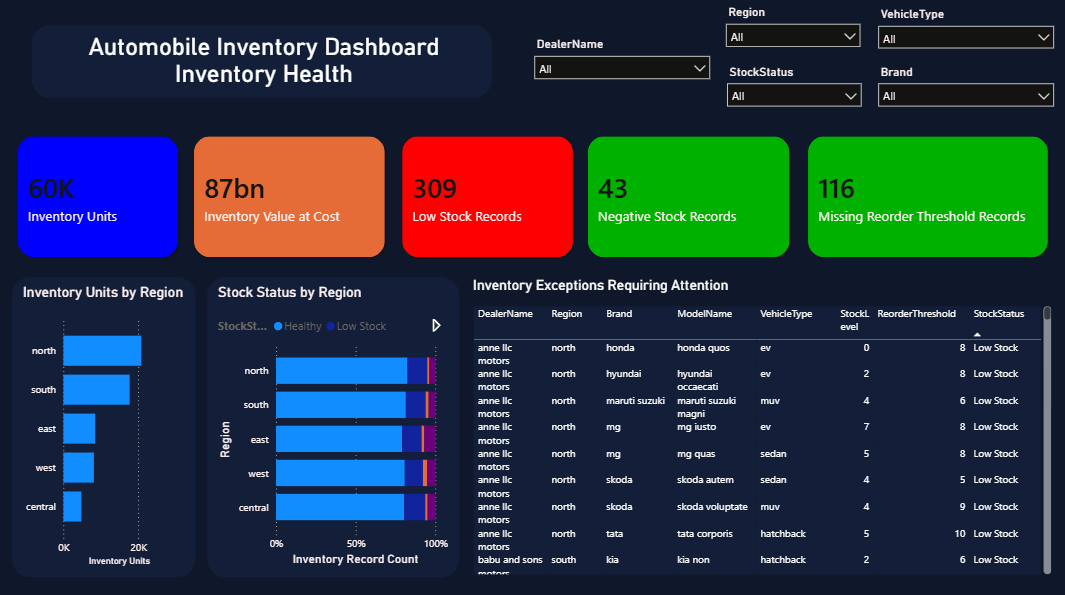

The page's visual inventory and layout, read from the dashboard file:
{"tool":"powerbi","page":{"name":"Inventory Health","canvas":[1280,720],"ordinal":2},"visuals":[{"type":"textbox","title":"Automobile Inventory Dashboard Inventory Health","box":[35,32.5,557.1,91.4],"z":0},{"type":"slicer","fields":{"Values":["fact_Inventory.StockStatus"]},"box":[862.5,77.5,181.4,70],"z":1000},{"type":"slicer","fields":{"Values":["dim_Dealers.Region"]},"box":[861.2,5,181.4,72.9],"z":2000},{"type":"slicer","fields":{"Values":["dim_Vehicles.Brand"]},"box":[1043.8,77.5,231.2,70],"z":3000},{"type":"slicer","fields":{"Values":["dim_Vehicles.VehicleType"]},"box":[1043.8,5,231.2,72.5],"z":4000},{"type":"cardVisual","fields":{"Data":["fact_Inventory.Inventory Value at Cost"]},"box":[211.2,147.5,272.5,188.8],"z":5000},{"type":"cardVisual","fields":{"Data":["fact_Inventory.Missing Reorder Threshold Records"]},"box":[948.7,146.4,331.2,188.8],"z":6000},{"type":"cardVisual","fields":{"Data":["fact_Inventory.Negative Stock Records"]},"box":[683.8,147.5,285,188.8],"z":7000},{"type":"cardVisual","fields":{"Data":["fact_Inventory.Inventory Units"]},"box":[0,147.5,235.7,188.6],"z":9000},{"type":"cardVisual","fields":{"Data":["fact_Inventory.Low Stock Records"]},"box":[461.2,147.5,248.8,188.8],"z":10000},{"type":"clusteredBarChart","fields":{"Category":["dim_Dealers.Region"],"Y":["fact_Inventory.Inventory Units"]},"box":[12.5,336.2,223.8,363.8],"z":12000},{"type":"hundredPercentStackedBarChart","title":"Stock Status by Region","fields":{"Category":["dim_Dealers.Region"],"Series":["fact_Inventory.StockStatus"],"Y":["fact_Inventory.Inventory Record Count"]},"box":[247.5,336.2,306.2,363.8],"z":14000},{"type":"slicer","fields":{"Values":["dim_Dealers.DealerName"]},"box":[631.2,43.8,231.2,70],"z":14001},{"type":"tableEx","title":"Inventory Exceptions Requiring Attention","fields":{"Values":["dim_Dealers.DealerName","dim_Dealers.Region","dim_Vehicles.Brand","dim_Vehicles.ModelName","dim_Vehicles.VehicleType","fact_Inventory.StockLevel","fact_Inventory.ReorderThreshold","fact_Inventory.StockStatus"]},"box":[562.5,337.5,703.8,362.5],"z":14002}]}

Visuals, with their boxes in screenshot pixels (x1, y1, x2, y2), scaled from the page's 1280x720 canvas onto the 1065x595 screenshot:
"Automobile Inventory Dashboard Inventory Health" textbox: 29,27,493,102
slicer - fact_Inventory.StockStatus: 718,64,869,122
slicer - dim_Dealers.Region: 717,4,867,64
slicer - dim_Vehicles.Brand: 868,64,1061,122
slicer - dim_Vehicles.VehicleType: 868,4,1061,64
cardVisual - fact_Inventory.Inventory Value at Cost: 176,122,402,278
cardVisual - fact_Inventory.Missing Reorder Threshold Records: 789,121,1064,277
cardVisual - fact_Inventory.Negative Stock Records: 569,122,806,278
cardVisual - fact_Inventory.Inventory Units: 0,122,196,278
cardVisual - fact_Inventory.Low Stock Records: 384,122,591,278
clusteredBarChart - dim_Dealers.Region x fact_Inventory.Inventory Units: 10,278,197,578
"Stock Status by Region" hundredPercentStackedBarChart: 206,278,461,578
slicer - dim_Dealers.DealerName: 525,36,718,94
"Inventory Exceptions Requiring Attention" tableEx: 468,279,1054,578
